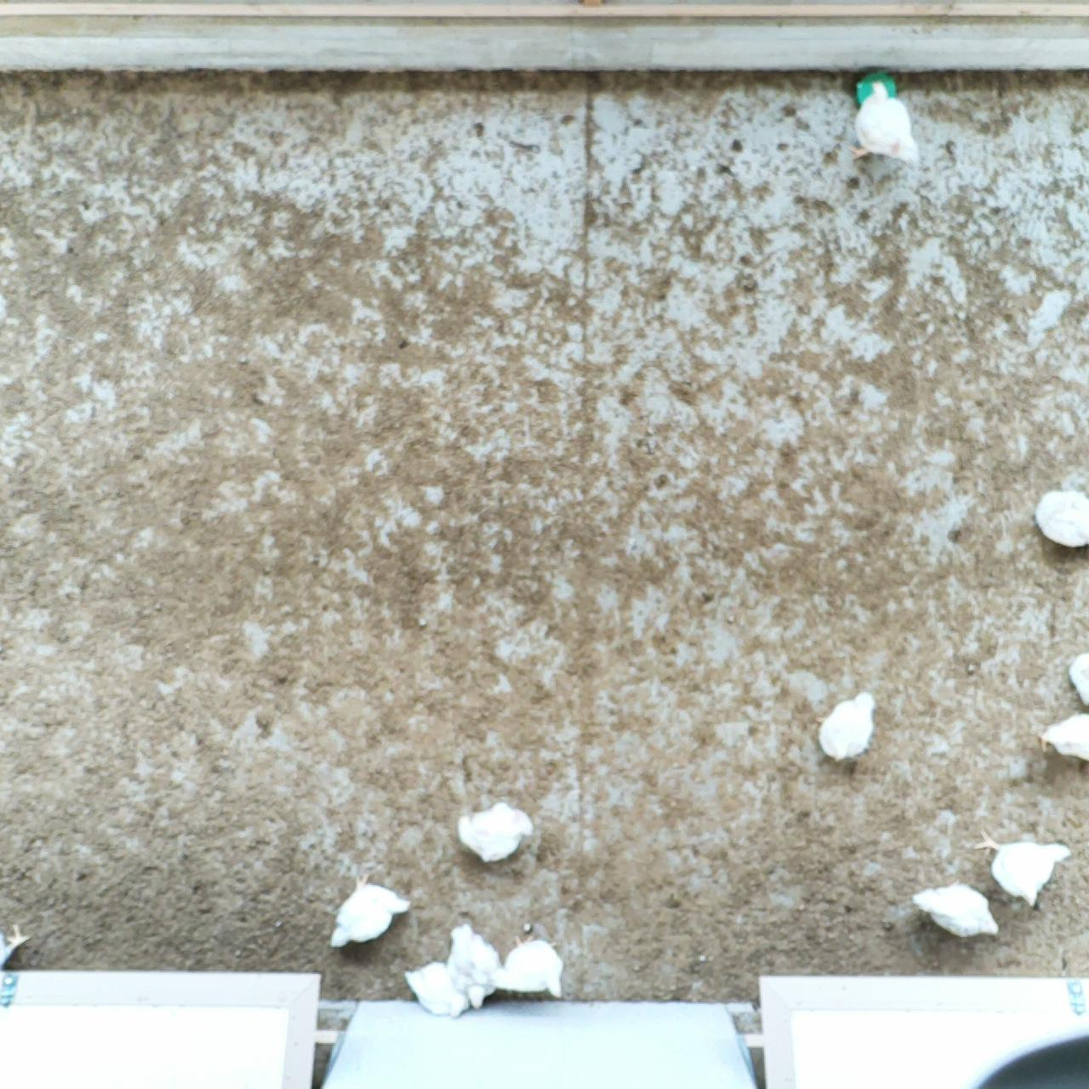chicken: (966, 822, 1076, 913), (325, 868, 417, 955), (846, 70, 921, 168), (904, 874, 1002, 945), (452, 797, 538, 864), (443, 922, 503, 1013), (816, 687, 882, 765), (490, 929, 564, 998), (404, 953, 473, 1022), (1025, 482, 1089, 548), (1031, 707, 1089, 762), (0, 917, 33, 969), (1063, 644, 1089, 707)
